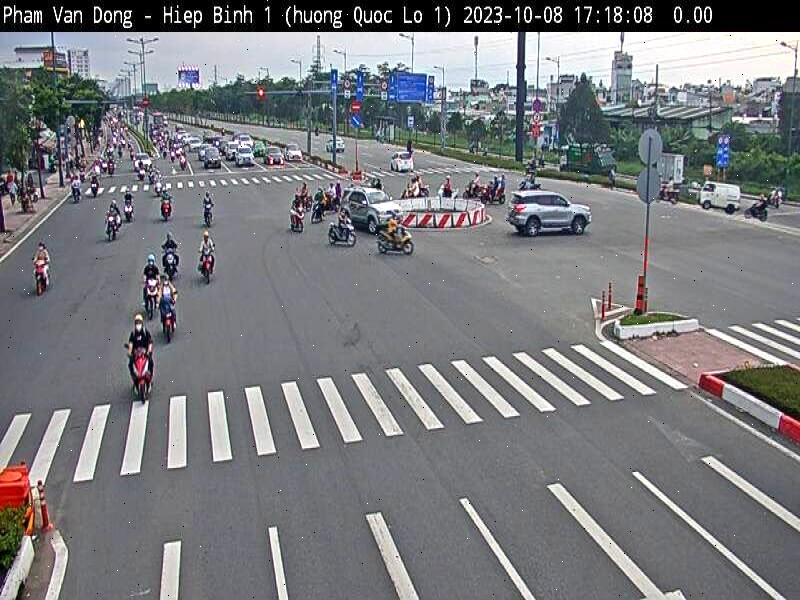car: (506, 191, 592, 235), (340, 188, 404, 235), (700, 182, 741, 214), (392, 152, 415, 172), (263, 146, 284, 166), (234, 146, 254, 167), (204, 148, 222, 170), (284, 143, 303, 163), (326, 136, 346, 154)
motorcycle: (124, 342, 155, 403), (159, 290, 180, 340), (378, 231, 415, 255), (142, 274, 160, 319), (196, 245, 216, 284), (330, 221, 357, 247), (162, 242, 180, 280), (32, 256, 49, 295), (290, 207, 306, 232), (106, 212, 119, 242), (202, 203, 216, 227), (122, 197, 135, 221), (161, 198, 172, 221)
